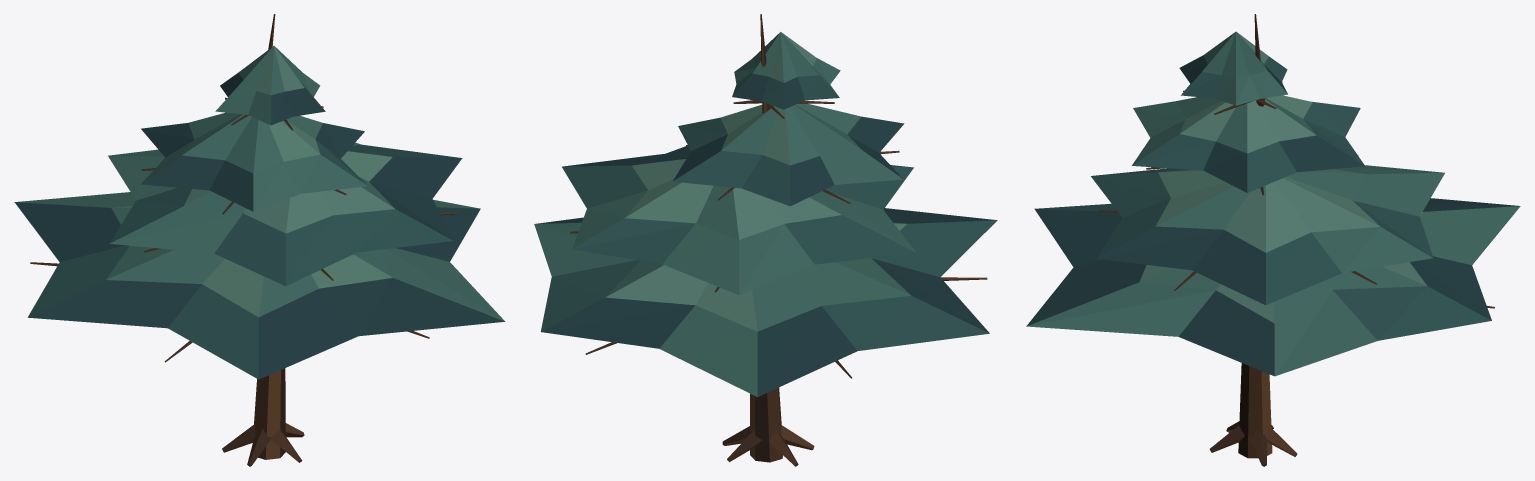
File: tree_cedar_blue.obj
3 views of the same model, side by side, from view 1: azimuth 30°, elevation 25°; view 2: azimuth 150°, elevation 25°; view 3: azimuth 270°, elevation 25° (orthographic).
Parts seen in each view (by area): view 1: tree_cedar_blue; view 2: tree_cedar_blue; view 3: tree_cedar_blue.
Part boxes in pixels (x1,y1,x2,y2): tree_cedar_blue: (14, 14, 505, 466); tree_cedar_blue: (534, 14, 997, 466); tree_cedar_blue: (1026, 14, 1520, 466).
Size of the model in its own units: 760 by 700 by 713.
1 material, 1 textured.
